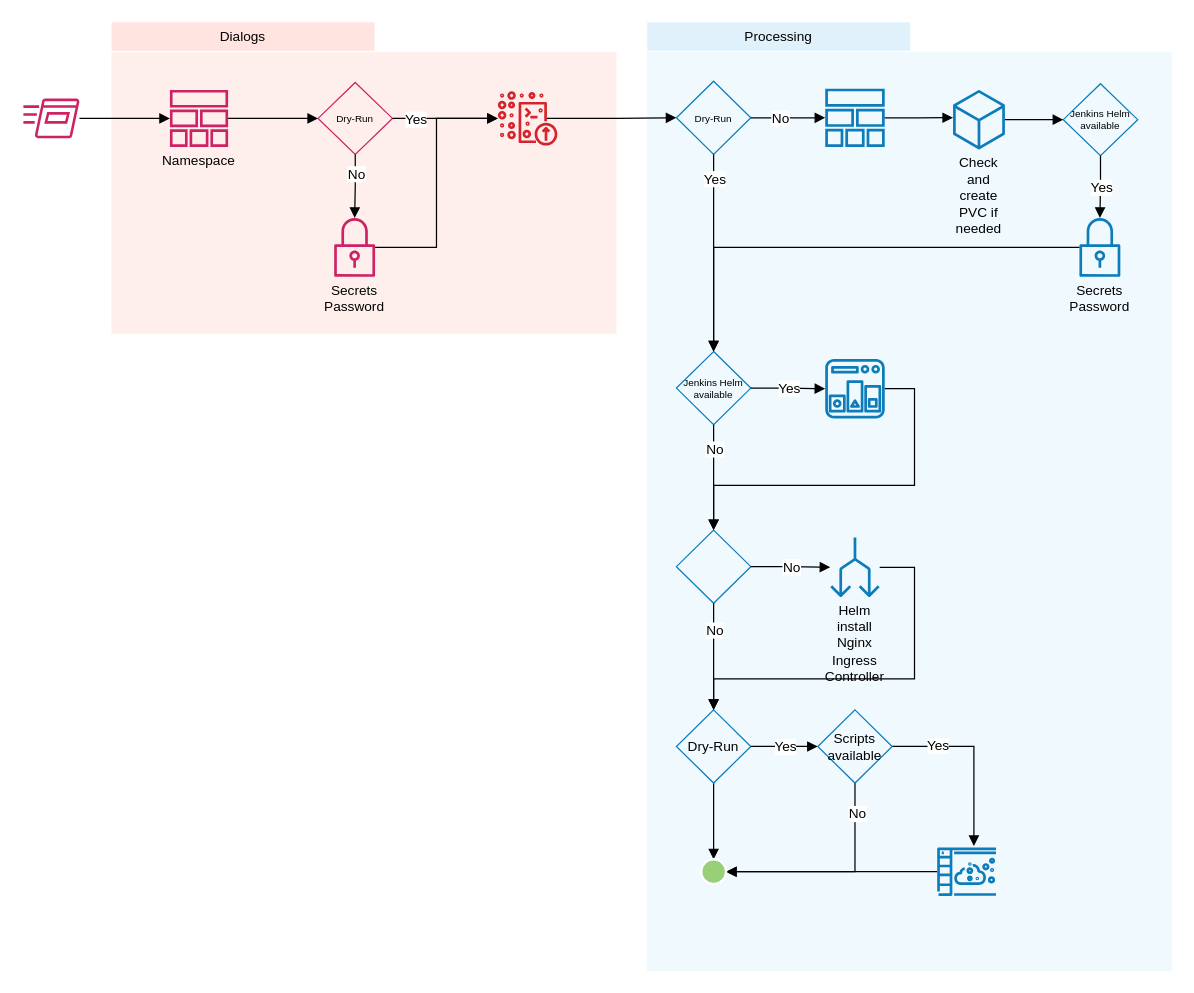
This 1194x993 diagram has some shape labels left out. Here are the shapes that lost their labels. From the top down, the centre of each, then its label:
the point at 51,118: Install
the point at 527,118: Development Environment
the point at 854,117: Check and create Namespace if needed
the point at 854,388: Helm install Jenkins
the point at 713,566: Nginx Ingress available
the point at 966,871: Execute scripts
